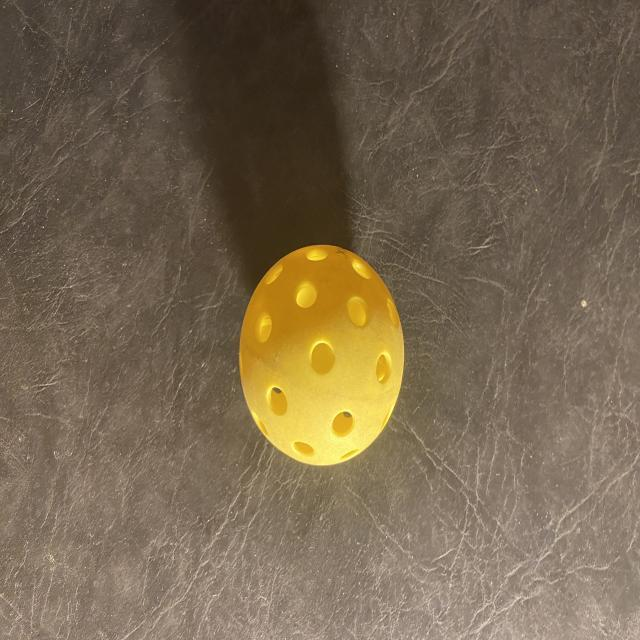ball: (236, 231, 424, 450)
